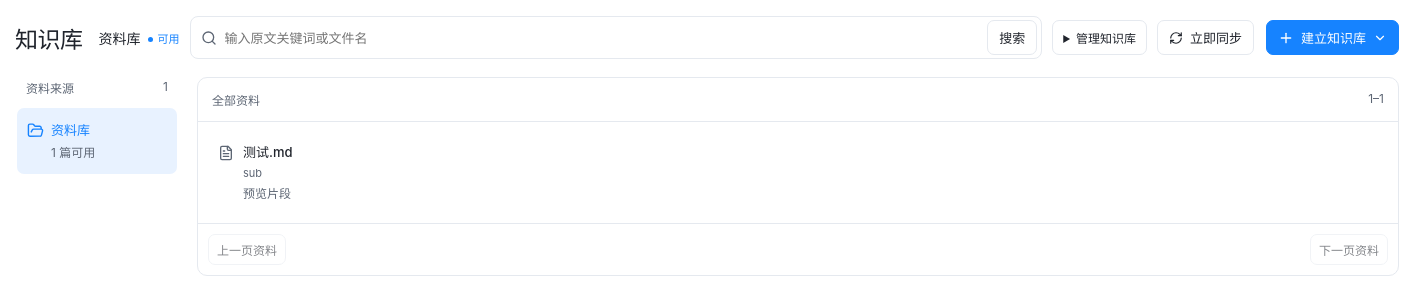
Test: search failure stays distinct from no matches
In the field named "搜索库内资料": (602,38) 224,24 -> 979,50, type "原文关键词"
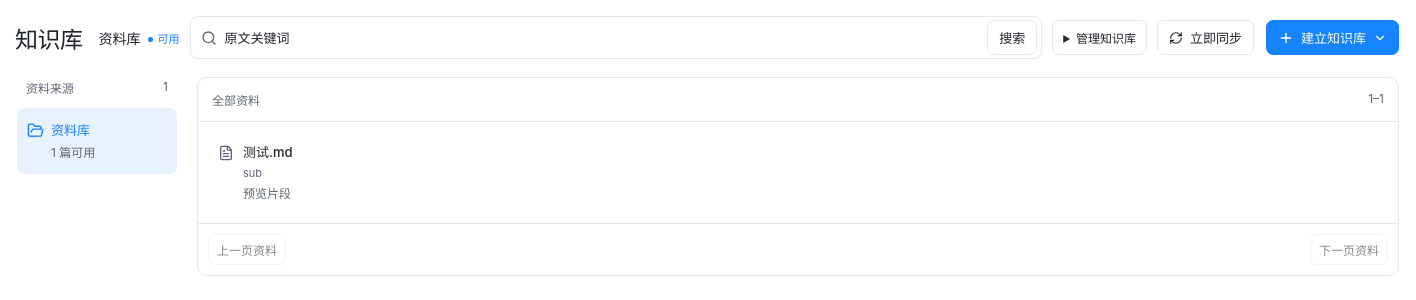
Submit the form named "搜索库内资料", box 190,16 -> 1042,59
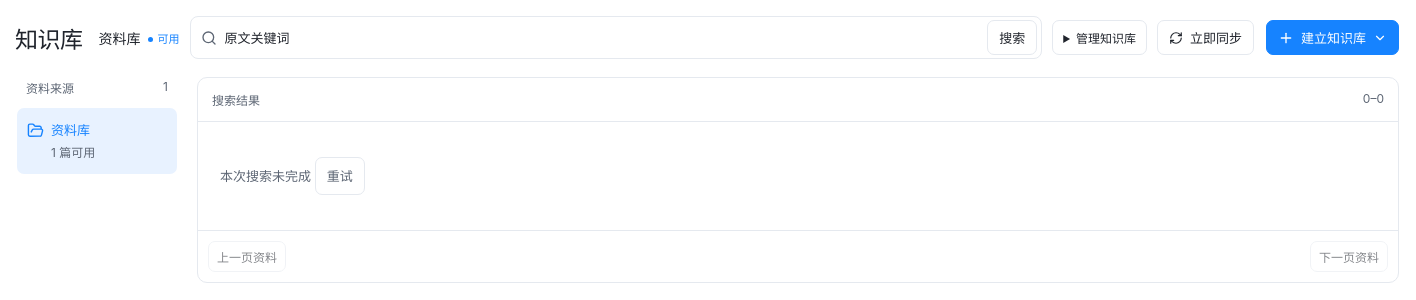
Expected: the text "本次搜索未完成" is shown, 220,168 -> 311,184
